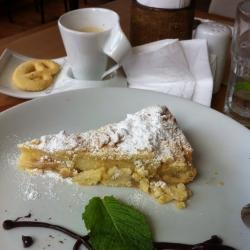apple_pie: (15, 103, 206, 209)
